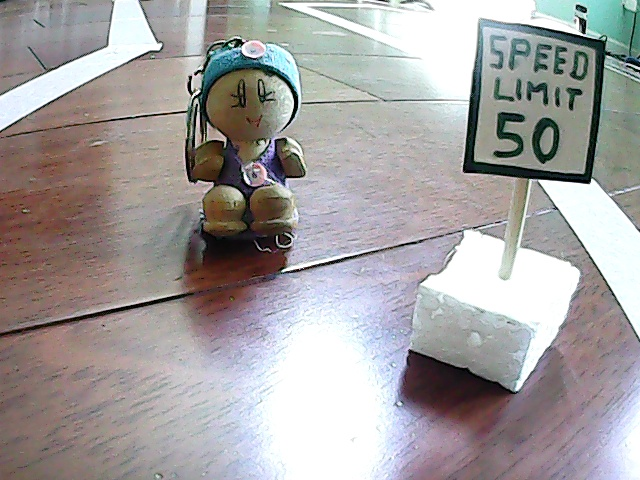pedestrain: (173, 36, 324, 260)
speed_50: (423, 11, 615, 388)
